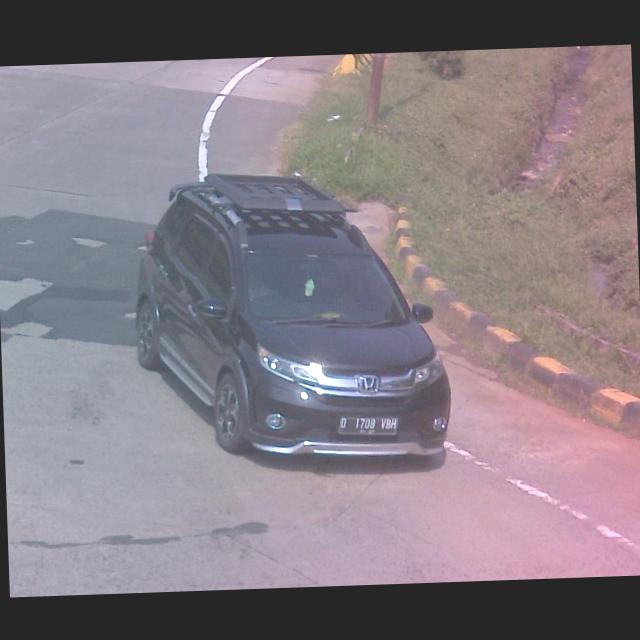plate: (337, 413, 400, 439)
